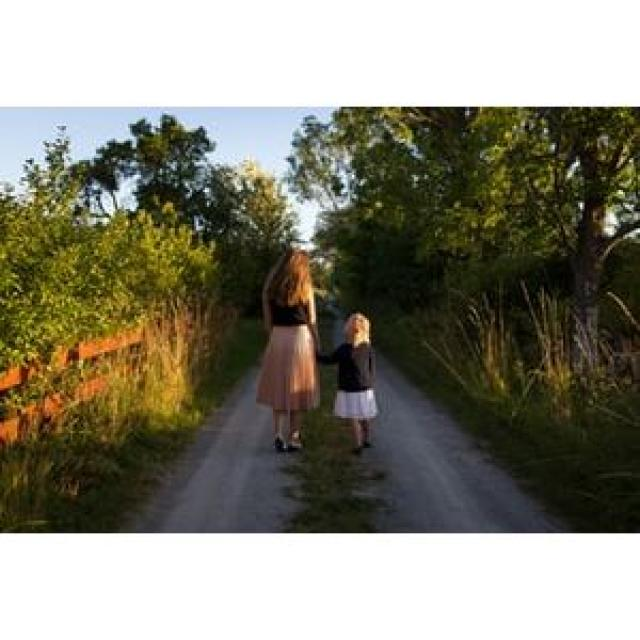nonfall: (249, 239, 322, 459), (328, 304, 392, 458)
